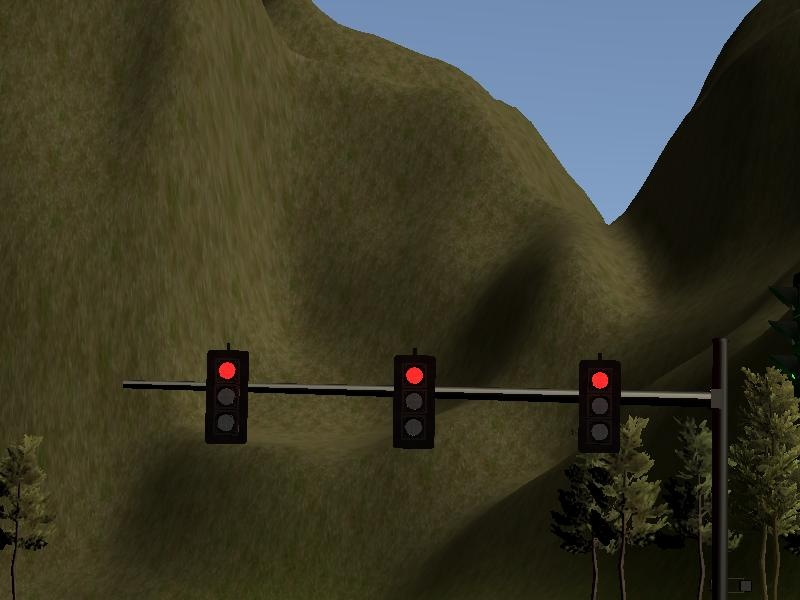red: (572, 356, 624, 459), (203, 346, 251, 450), (390, 350, 439, 450)
